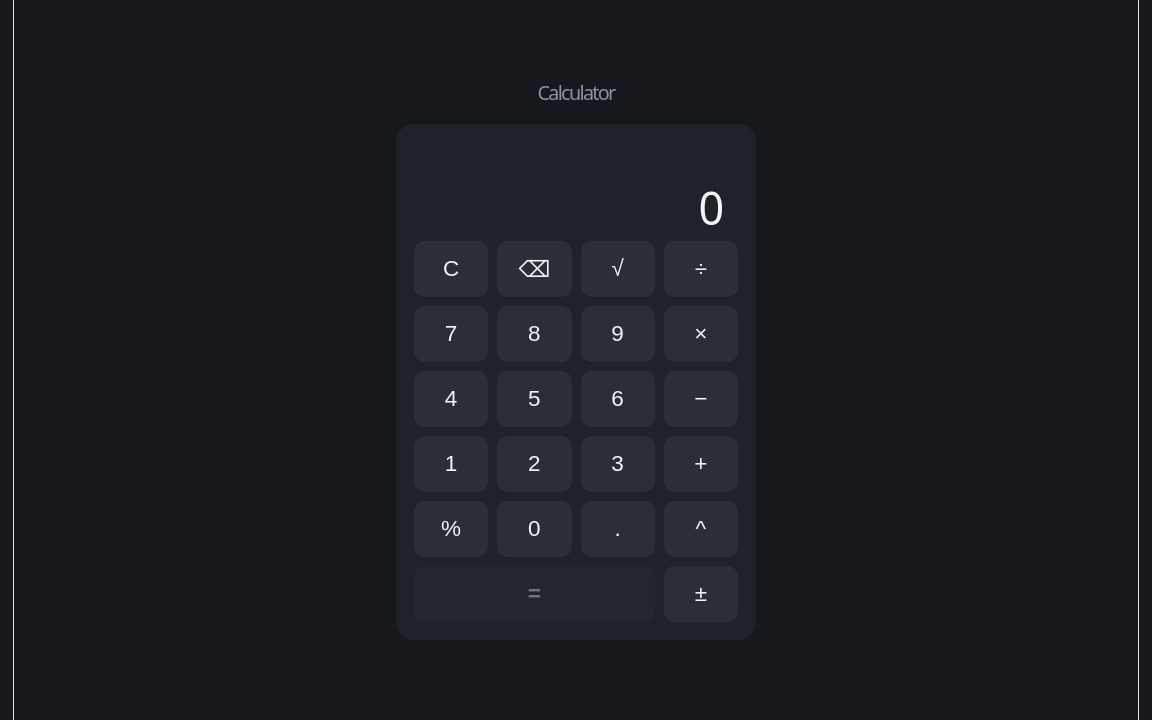
Scenario: App › sends the entered operation and renders the result
What coordinates should you click on to do the following:
click the button "1"
I would click on:
 (451, 464)
Its box is [414, 436, 488, 492].
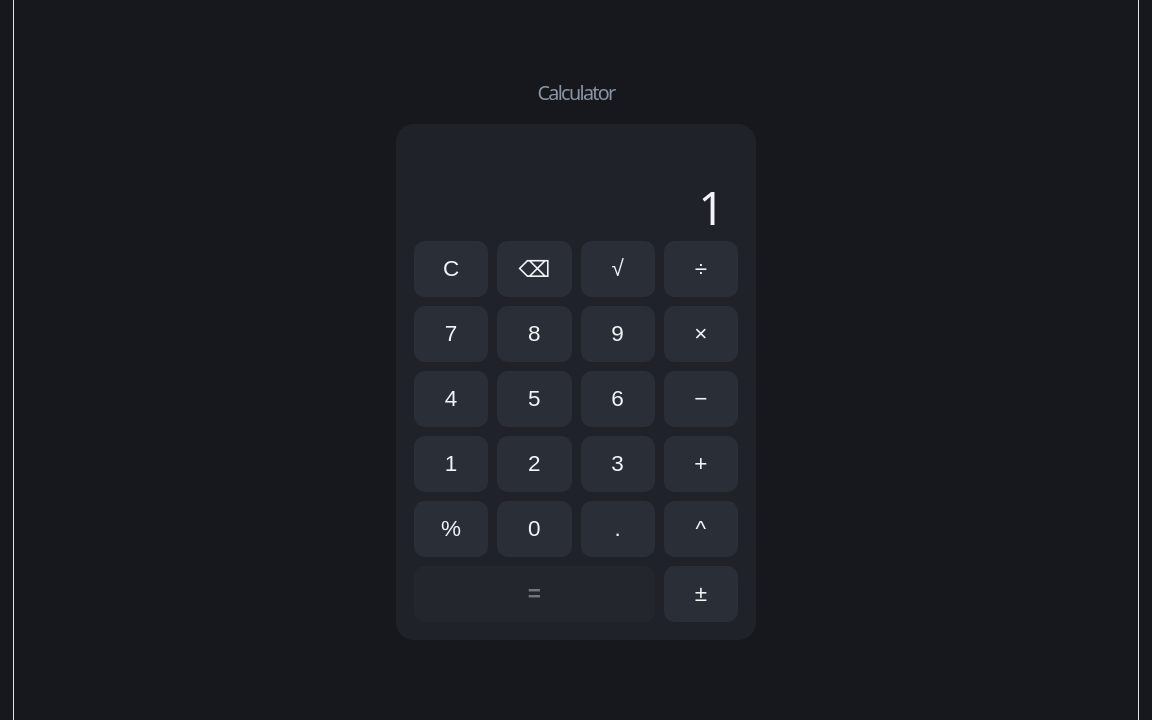
What coordinates should you click on to do the following:
click the button "2"
I would click on:
 (534, 464)
Its box is [497, 436, 572, 492].
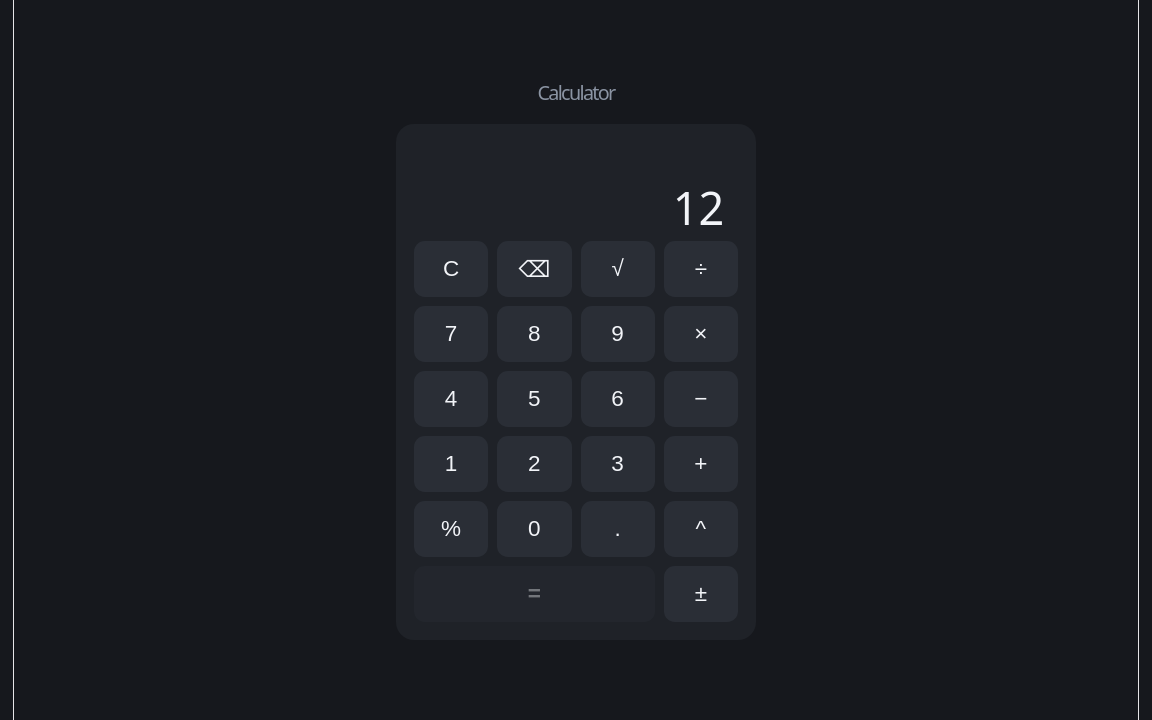
What coordinates should you click on to do the following:
click the button named "add"
I would click on:
 (701, 464)
Its box is [664, 436, 738, 492].
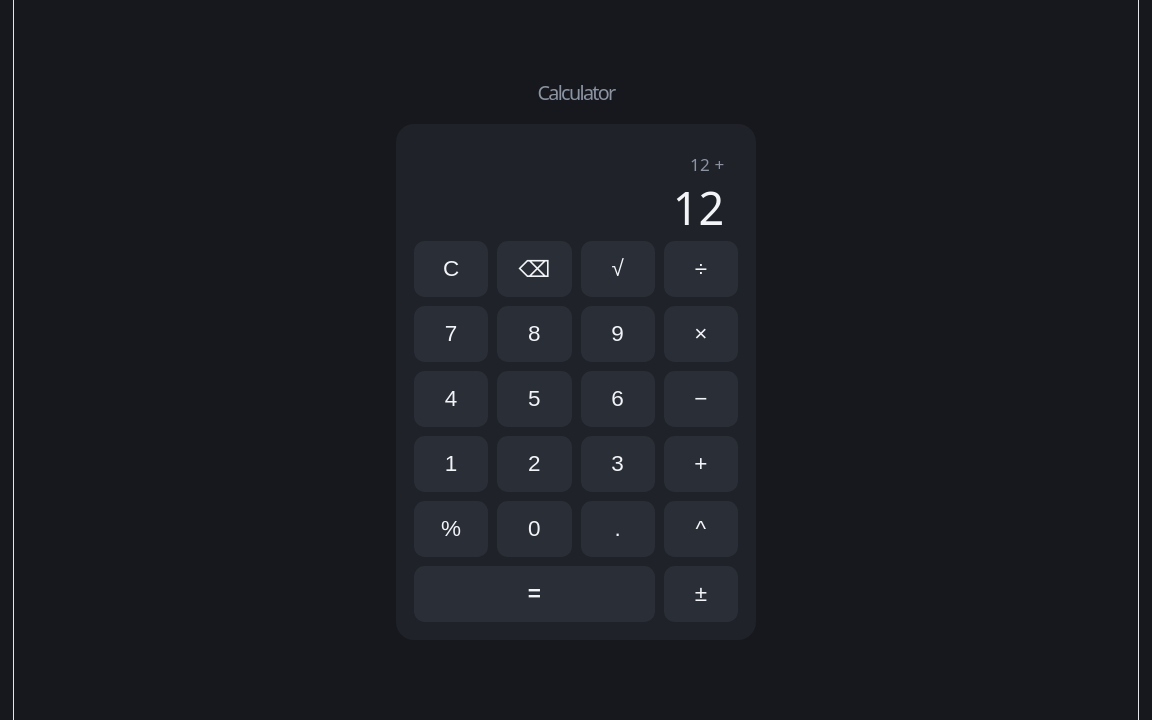
What coordinates should you click on to do the following:
click the button "5"
I would click on:
 (534, 399)
Its box is [497, 371, 572, 427].
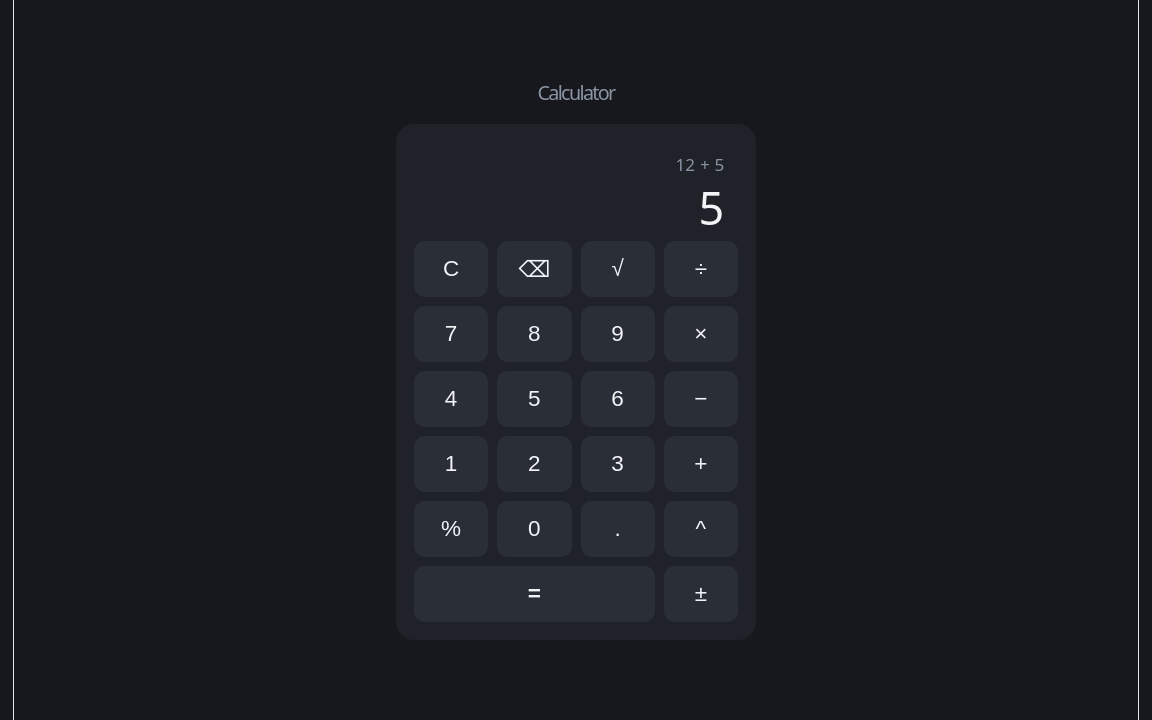
What coordinates should you click on to do the following:
click the button "="
I would click on:
 (534, 594)
Its box is [414, 566, 655, 622].
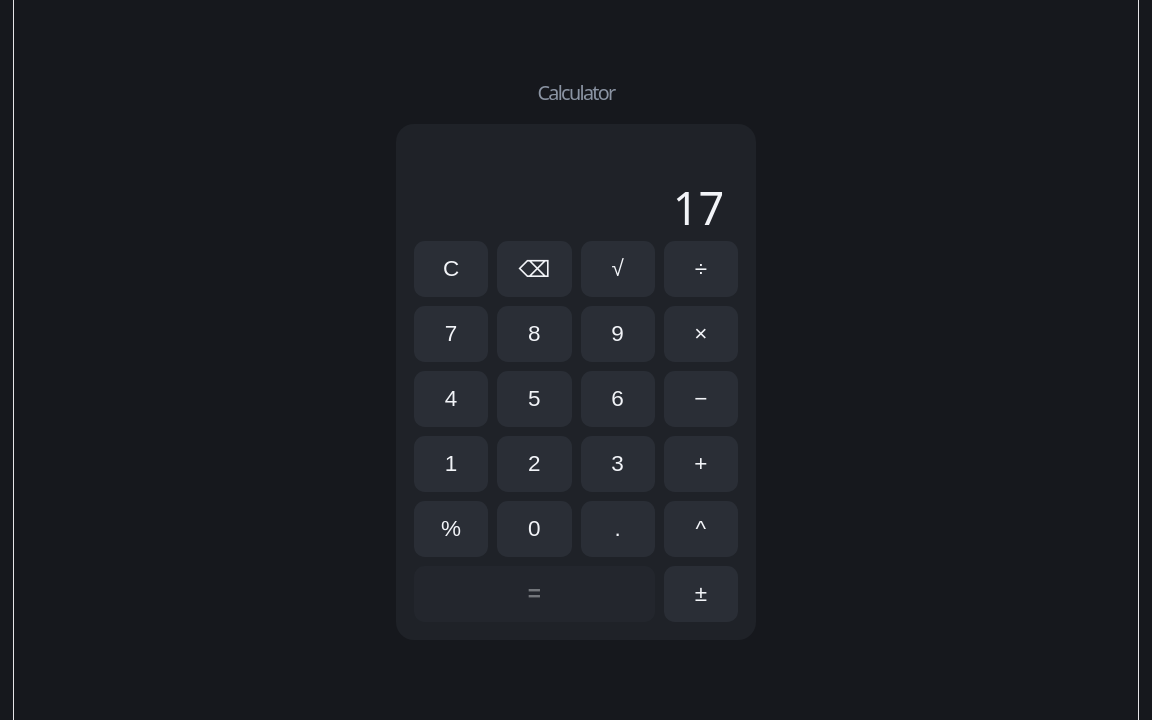
Expected: the text "17" is shown, [673, 182, 724, 232]
